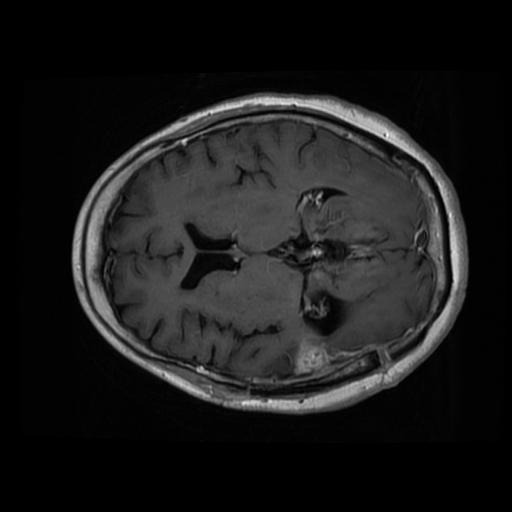glioma: (293, 338, 359, 372)
